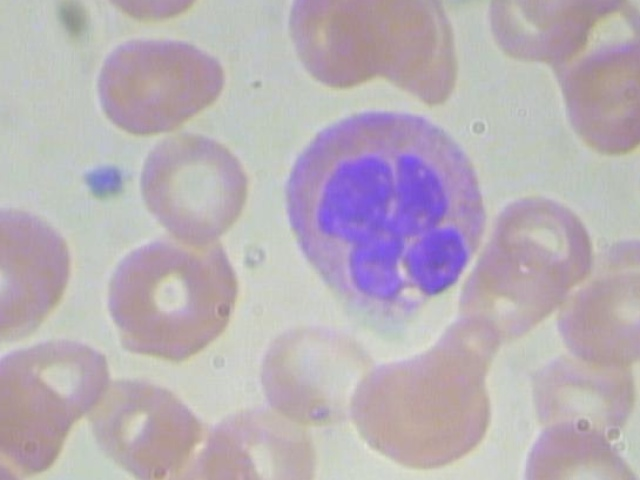Platelets: (69, 149, 137, 203)
RBC: (92, 231, 233, 357), (251, 310, 392, 435), (128, 126, 255, 245), (96, 31, 222, 142), (553, 40, 640, 165), (550, 258, 640, 368), (90, 0, 220, 22), (637, 125, 640, 226)
WBC: (270, 104, 496, 336)
